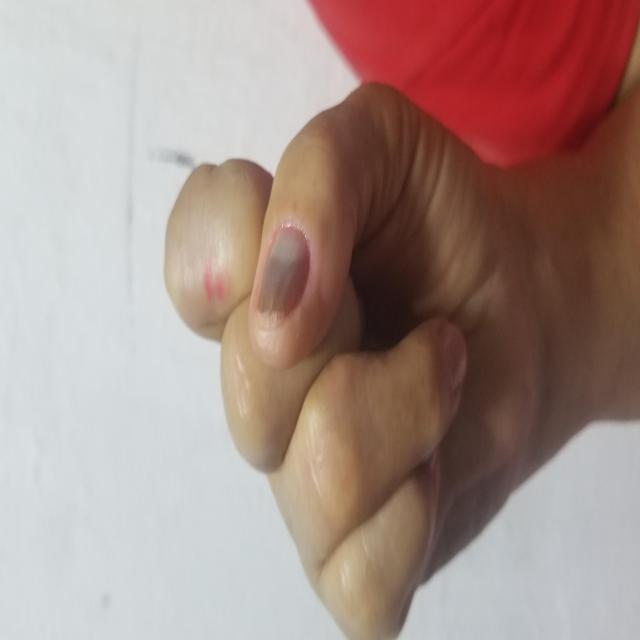S: (0, 161, 561, 526)
